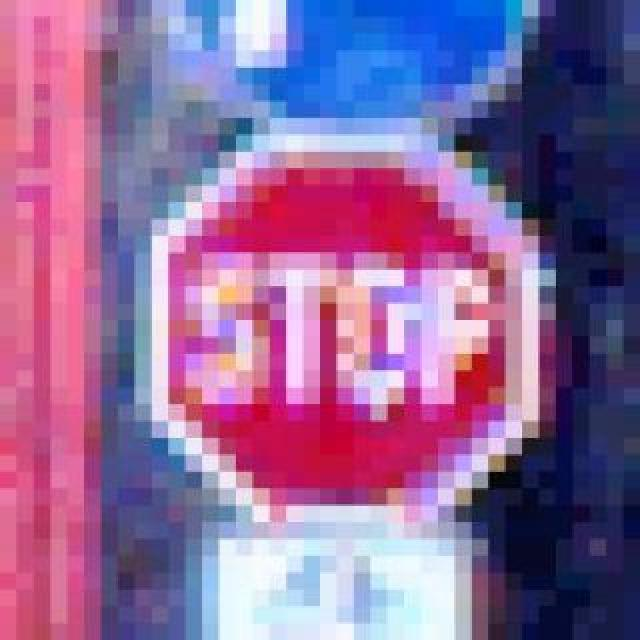stop: (146, 134, 540, 530)
